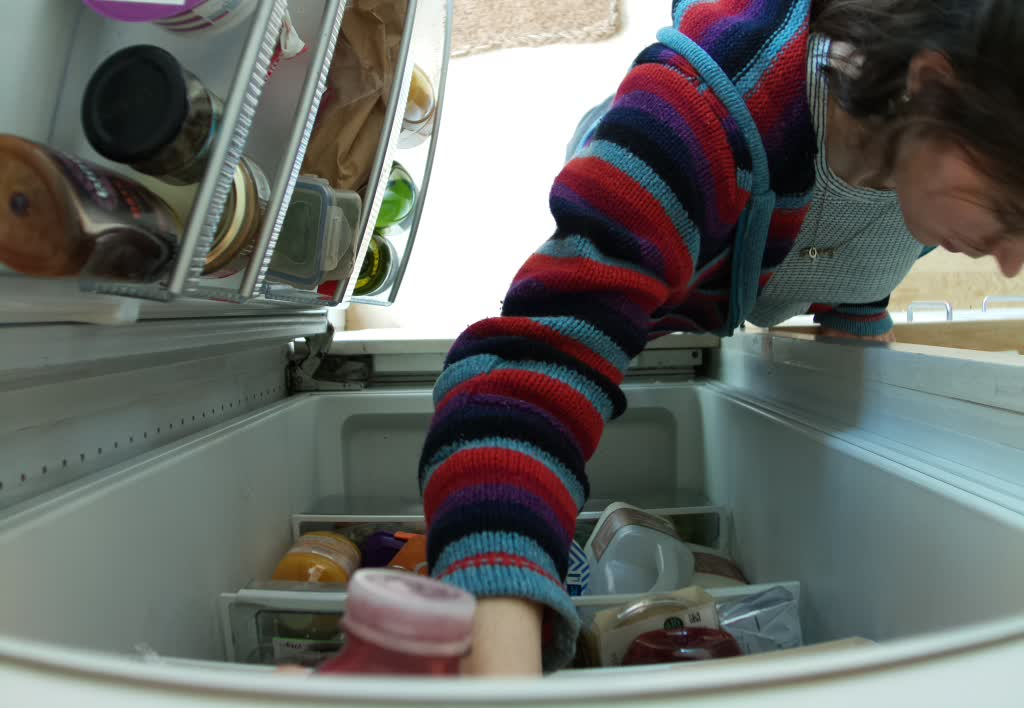juice: (310, 564, 494, 691)
